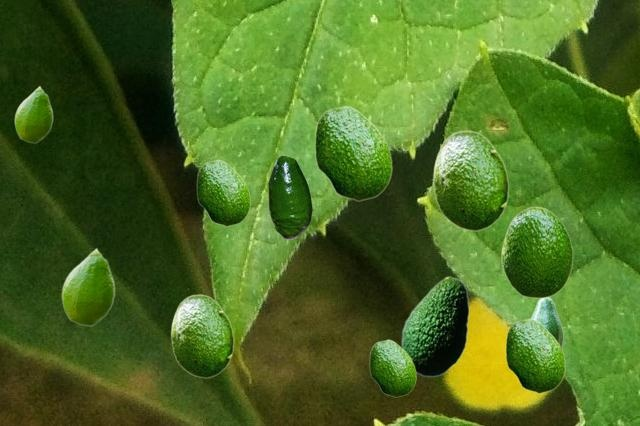avocado: (432, 130, 508, 230), (314, 105, 391, 200), (401, 276, 468, 376), (501, 206, 572, 297), (170, 294, 233, 377), (505, 318, 564, 392), (61, 247, 114, 325), (268, 155, 311, 238), (196, 159, 249, 225), (369, 339, 415, 396), (14, 85, 52, 142), (530, 297, 562, 347)
